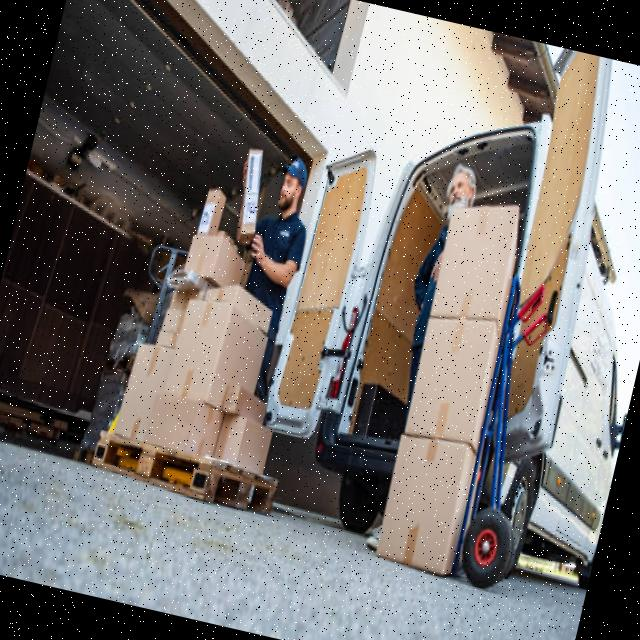Wooden-Pallets: (90, 421, 281, 518)
